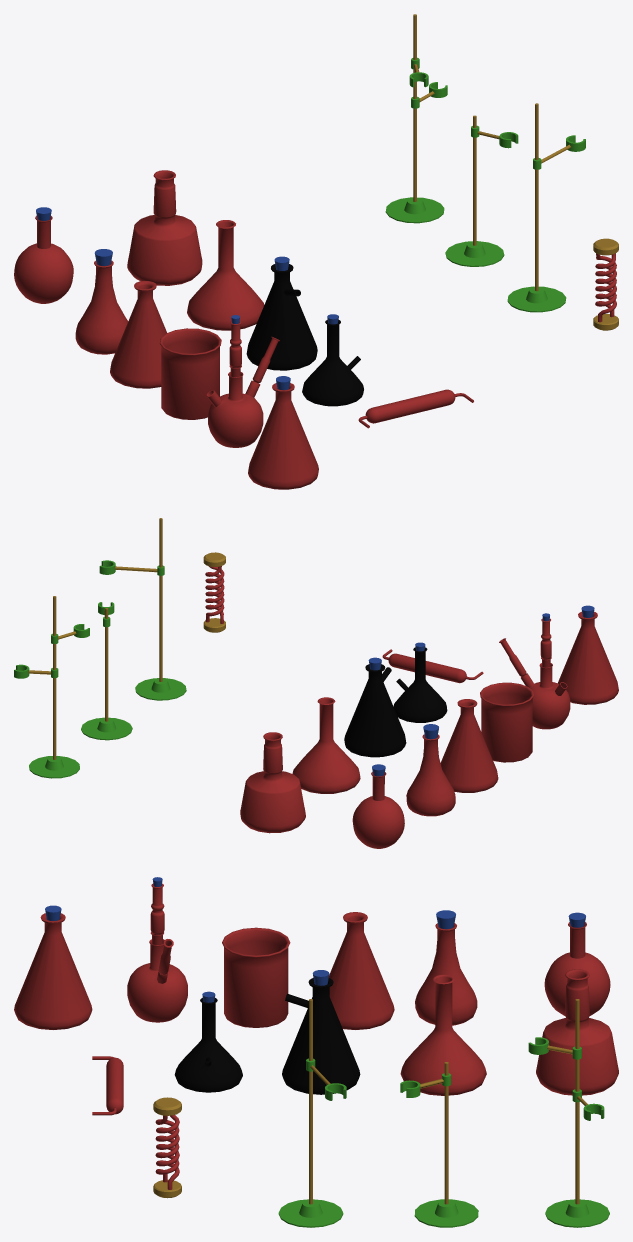
The model's file is big_objects.FBX.
The picture shows the model from 3 angles, top to bottom: view 1: azimuth 30°, elevation 25°; view 2: azimuth 150°, elevation 25°; view 3: azimuth 270°, elevation 25°; orthographic projection. The views are drawn at different scales.
Visible parts, largest first — view 1: 008, 005, 007, 010, 006, 009, 004, 001, 003, 011, StoikaMensures001, Stoika002 (+3 smaller); view 2: 008, 005, 010, 007, 004, 009, 006, 001, 003, 011, StoikaMensures001, Stoika002 (+3 smaller); view 3: 005, 008, 007, 010, 004, 009, 006, 011, 003, StoikaMensures001, 001, Stoika002 (+3 smaller).
Part boxes in pixels (x1,y1,x2,y2): 008: [127, 170, 202, 285]; 005: [159, 328, 221, 419]; 007: [248, 376, 318, 489]; 010: [246, 256, 317, 370]; 006: [206, 315, 279, 447]; 009: [187, 220, 264, 330]; 004: [110, 281, 166, 388]; 001: [14, 207, 73, 303]; 003: [75, 249, 127, 354]; 011: [302, 314, 363, 406]; StoikaMensures001: [385, 14, 447, 223]; Stoika002: [507, 103, 585, 312]; 008: [240, 732, 305, 833]; 005: [480, 682, 533, 762]; 010: [344, 657, 406, 757]; 007: [557, 605, 618, 704]; 004: [440, 699, 498, 792]; 009: [292, 697, 360, 793]; 006: [499, 613, 570, 729]; 001: [352, 764, 404, 848]; 003: [406, 724, 455, 816]; 011: [393, 642, 447, 722]; StoikaMensures001: [14, 596, 89, 778]; Stoika002: [99, 518, 186, 700]; 005: [222, 927, 290, 1027]; 008: [536, 969, 618, 1095]; 007: [14, 905, 92, 1029]; 010: [282, 970, 360, 1094]; 004: [328, 912, 394, 1029]; 009: [400, 974, 486, 1095]; 006: [127, 877, 187, 1022]; 011: [174, 991, 242, 1092]; 003: [415, 910, 477, 1025]; StoikaMensures001: [528, 999, 609, 1227]; 001: [544, 912, 610, 1015]; Stoika002: [278, 999, 346, 1227].
Size of the model in its own units: 2.55 by 1.04 by 2.65.
